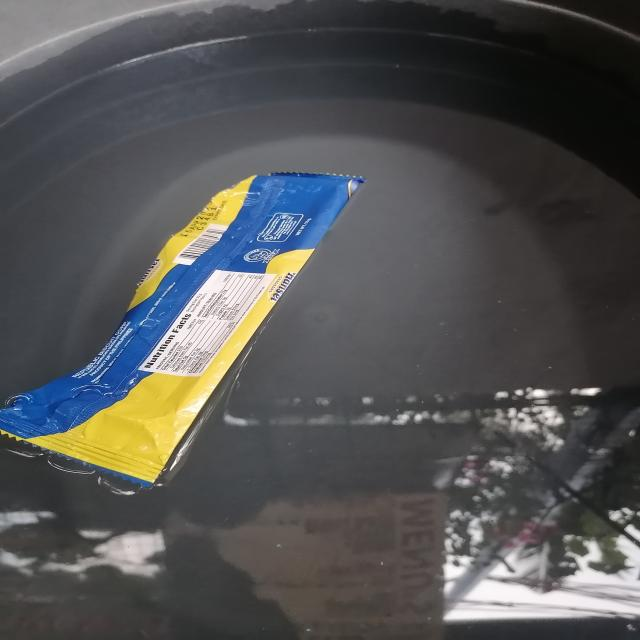Plastic Wrapper: (0, 144, 393, 514)
